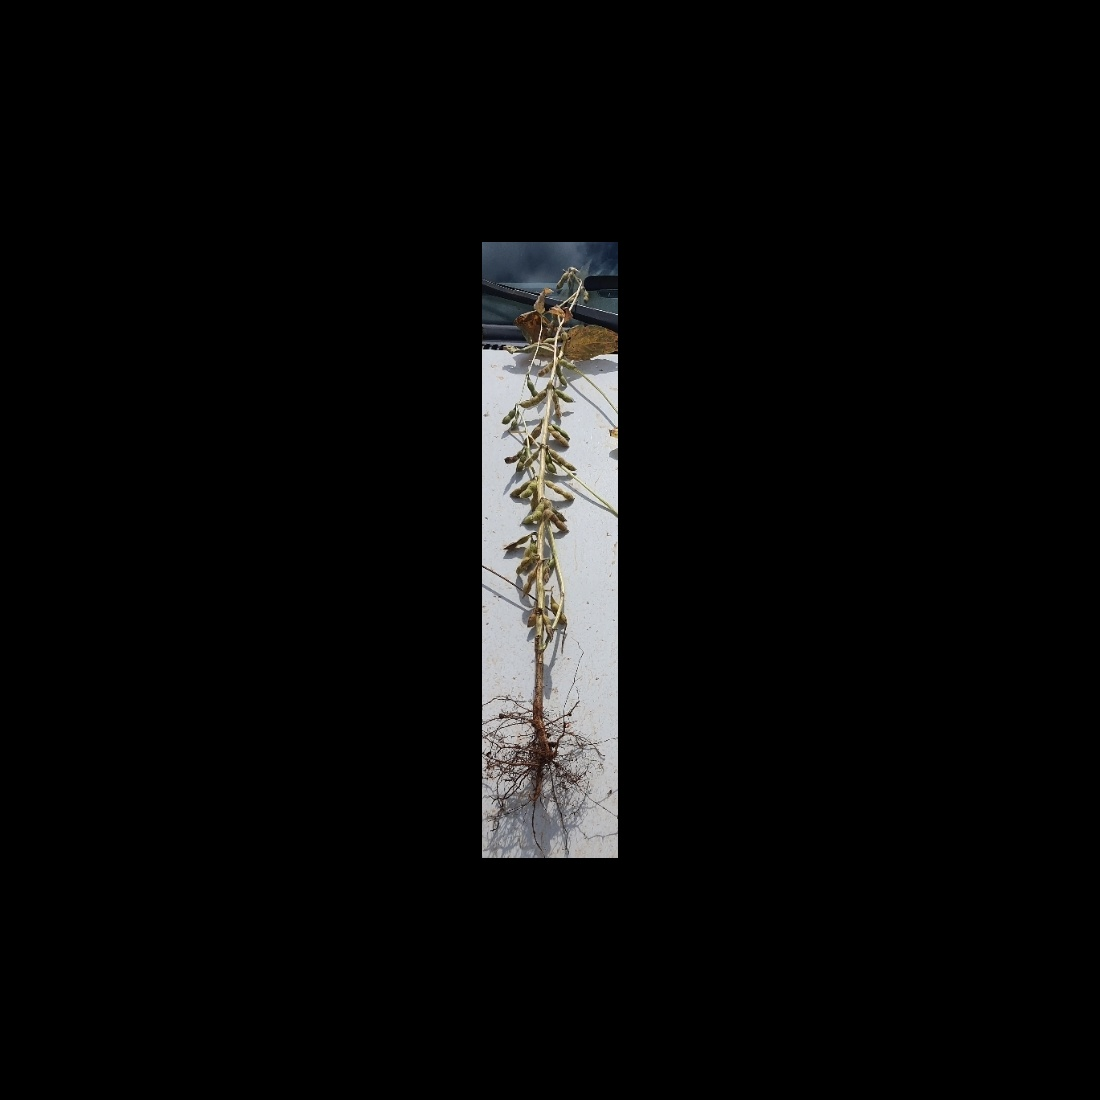pod: (549, 595, 570, 626), (546, 480, 574, 499), (552, 450, 576, 471), (502, 534, 527, 551), (522, 571, 536, 601), (520, 482, 539, 501), (521, 512, 544, 524), (526, 450, 540, 468), (545, 454, 557, 474), (516, 454, 527, 472), (501, 410, 515, 424)
soy: (499, 264, 609, 777)
